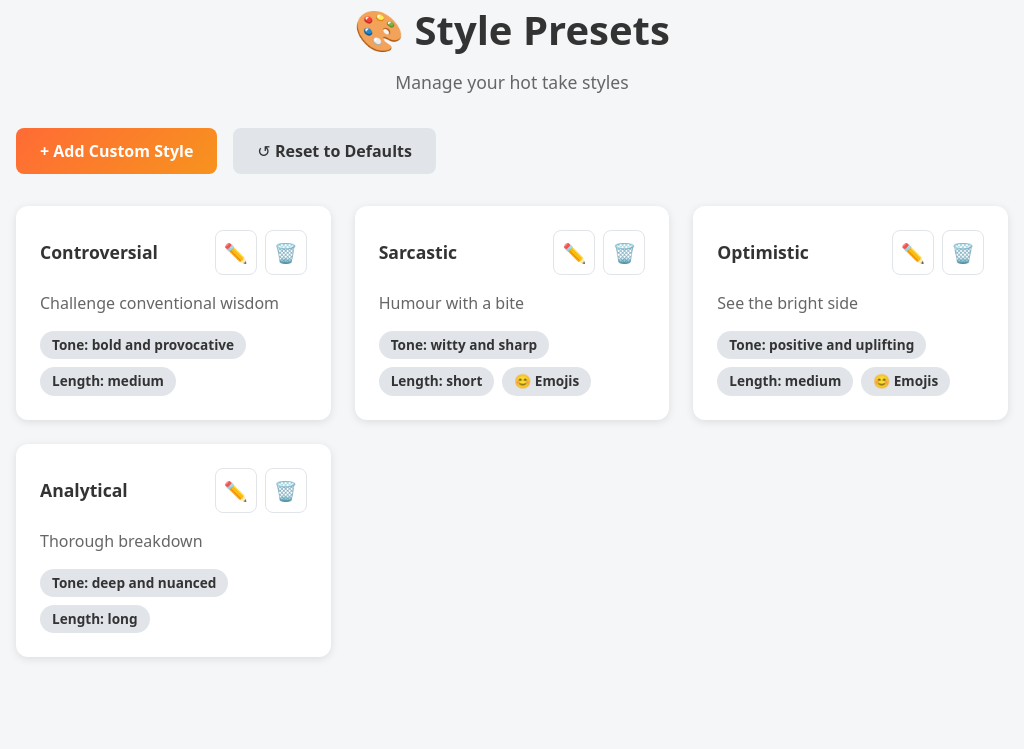
Test: StylesPage › populates form with preset data when editing
Click the button titled "Edit" next to "Sarcastic" at point(574, 252), box [553,230,595,275]
(page scrolled)
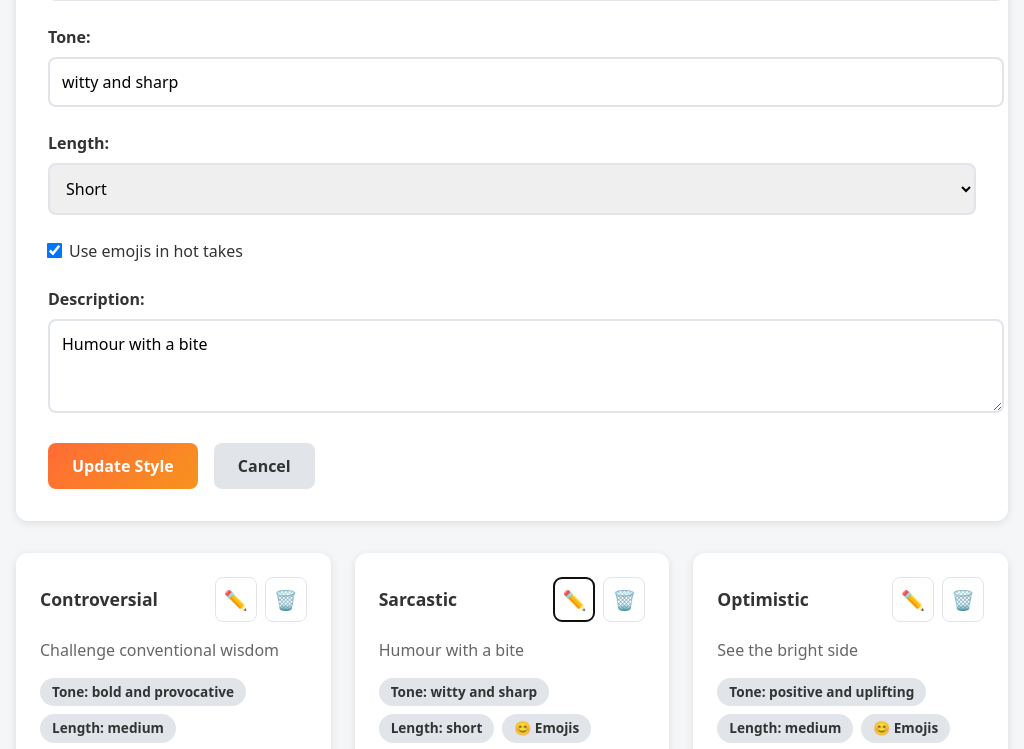
Now the field labelled "Tone:" holds "witty and sharp", box [48,57,1004,107]
Now the dropdown labelled "Length:" shows "Short", box [48,163,976,215]
Now the checkbox labelled "Use emojis in hot takes" is checked, box [47,243,62,259]
